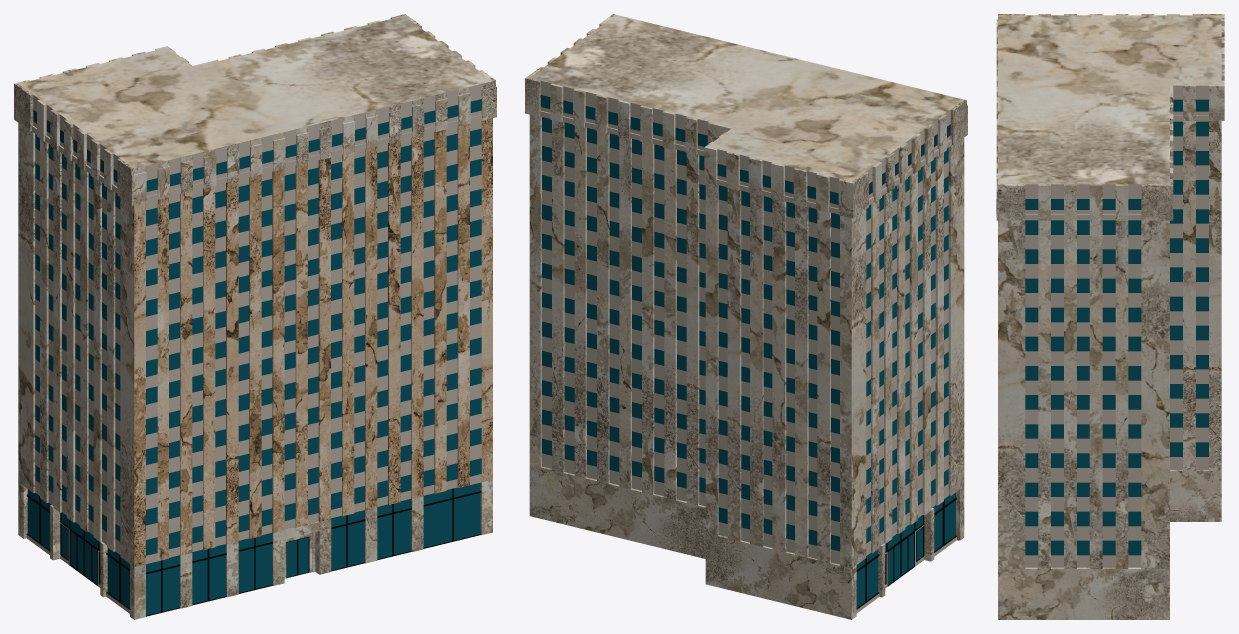
The model's file is rectangle_buildings4.fbx.
3 renders of one model, left to right at view 1: azimuth 30°, elevation 25°; view 2: azimuth 150°, elevation 25°; view 3: azimuth 270°, elevation 25°, orthographic. The views are drawn at different scales.
Visible parts, largest first — view 1: Front, Left, Roof, Front bottom, Front top, Left bottom, Left top; view 2: Back left, Back right, Left, Roof, Back left bottom, Back right bottom, Back left top, Left bottom, Back right top, Left top; view 3: Right, Roof, Right tight, Right bottom, Right top, Right tight bottom, Right tight top, Back left top, Front top.
Boxes of the visible parts, x1,y1,x2,y2 form: Front: (134,118,492,566); Left: (18,123,134,566); Roof: (19,16,492,168); Front bottom: (134,479,492,619); Front top: (131,81,496,205); Left bottom: (18,482,134,619); Left top: (14,84,133,205); Back left: (529,115,705,506); Back right: (705,183,851,568); Left: (851,138,964,568); Roof: (530,14,963,181); Back left bottom: (529,465,705,558); Back right bottom: (705,533,851,619); Back left top: (525,77,732,156); Left bottom: (851,486,964,619); Back right top: (704,146,853,218); Left top: (852,99,967,218); Right: (998,220,1169,568); Roof: (998,15,1221,184); Right tight: (1170,121,1221,470); Right bottom: (998,567,1169,619); Right top: (996,184,1173,220); Right tight bottom: (1170,470,1221,521); Right tight top: (1173,85,1224,120); Back left top: (1170,85,1173,185); Front top: (996,19,997,191).
Size of the model in its own units: 2528 by 2990 by 1418.
